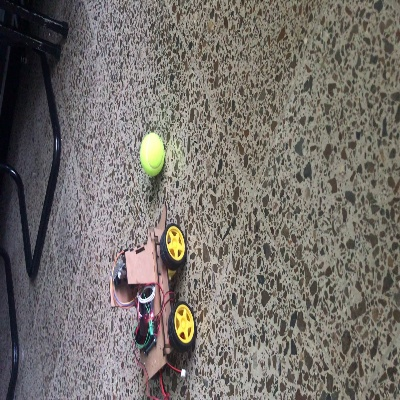Ball: (138, 134, 165, 175)
Robot: (109, 202, 197, 383)
